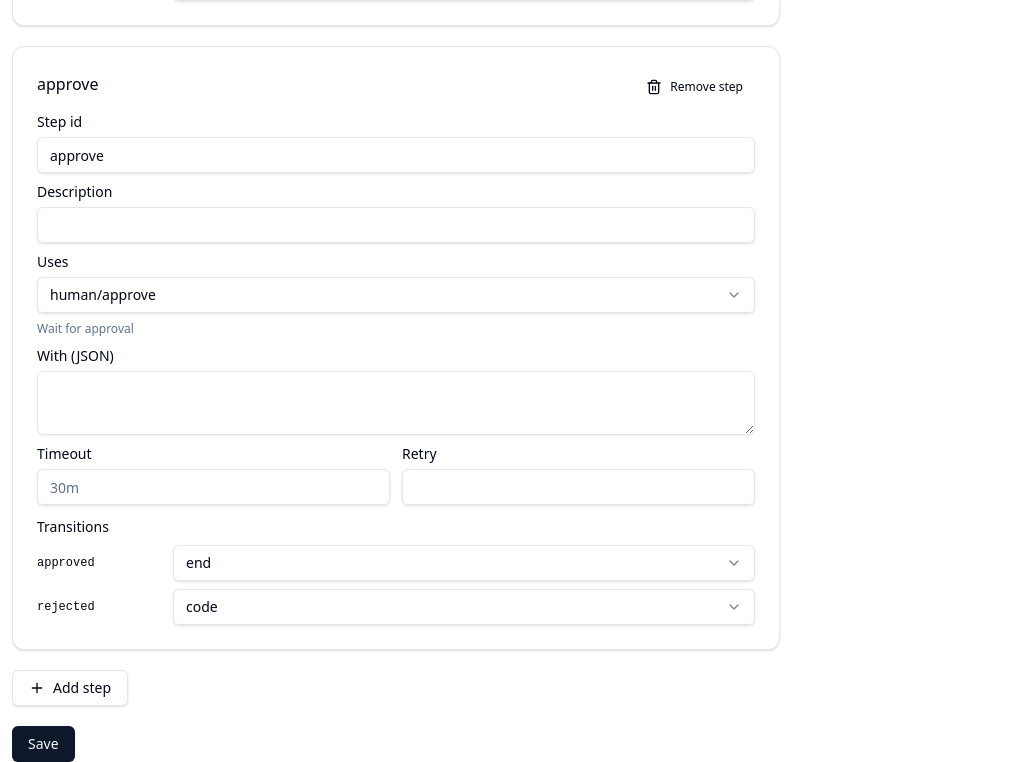
Test: WorkflowEditorPage › renders the problems of a 422
(page scrolled)
Click the button "Save".
click(43, 744)  # box 12,726 -> 75,761
(page scrolled)
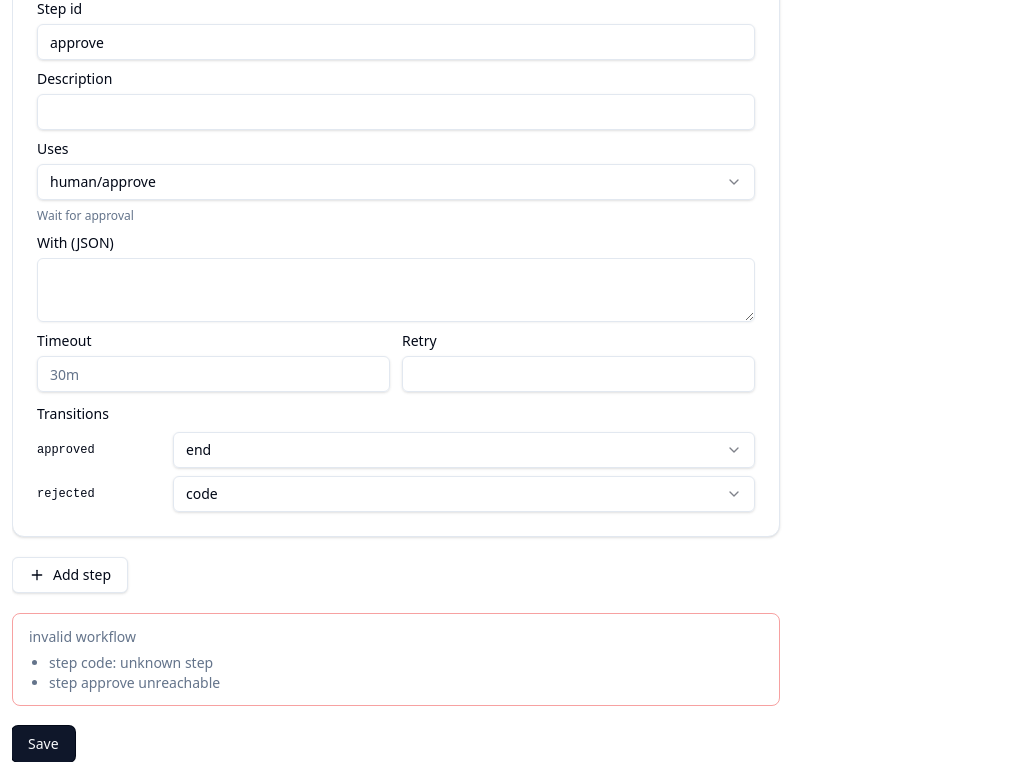
Now the message shows "invalid workflow", box 29,627 -> 136,646
Now the number of list items is 2, box 49,653 -> 220,673; 49,673 -> 220,693
Now the list item "step approve unreachable" is shown, box 49,673 -> 220,693
